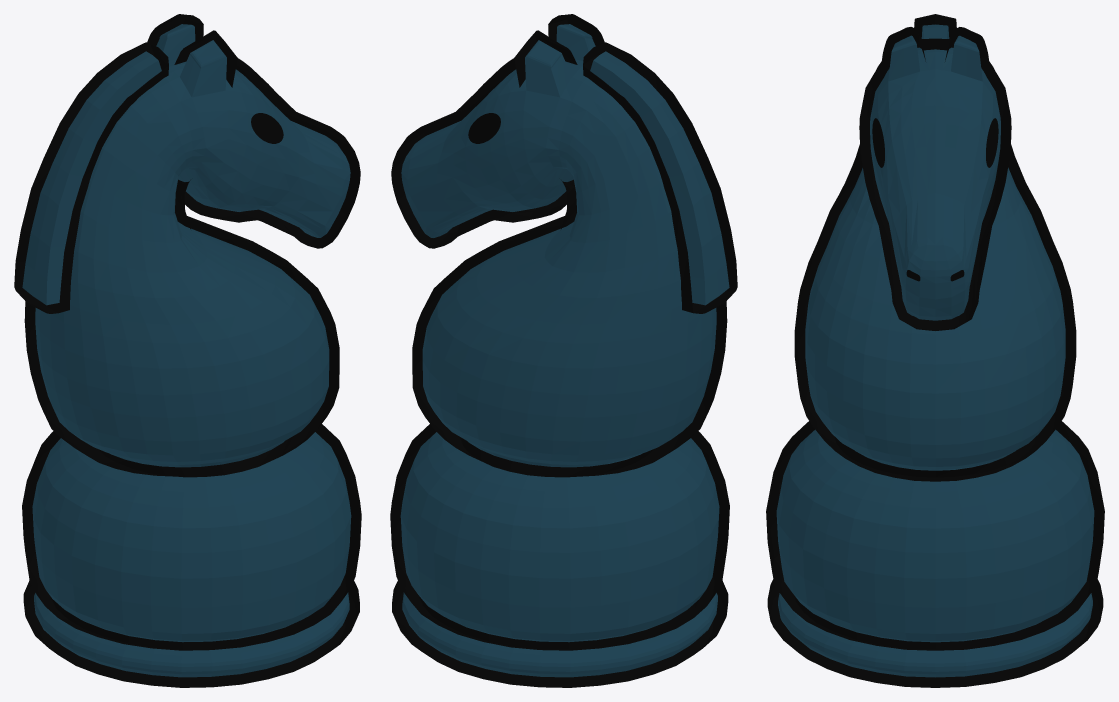
File: cizgi_n_b.glb
3 renders of one model, left to right at view 1: azimuth 30°, elevation 25°; view 2: azimuth 150°, elevation 25°; view 3: azimuth 270°, elevation 25°, orthographic.
Visible parts, largest first — view 1: Body, Outline, Outline3, Eyes; view 2: Body, Outline, Outline3, Eyes; view 3: Body, Outline, Eyes.
Boxes of the visible parts, <box> form: Body: <box>22,24,351,677</box>; Outline: <box>14,14,361,687</box>; Outline3: <box>58,66,168,312</box>; Eyes: <box>251,113,283,143</box>; Body: <box>400,24,729,677</box>; Outline: <box>390,14,737,687</box>; Outline3: <box>583,66,693,312</box>; Eyes: <box>468,113,500,143</box>; Body: <box>776,24,1094,677</box>; Outline: <box>766,14,1104,687</box>; Eyes: <box>872,118,998,167</box>.
Bounding box in the file's own units: 0.0376 × 0.0659 × 0.0339.
